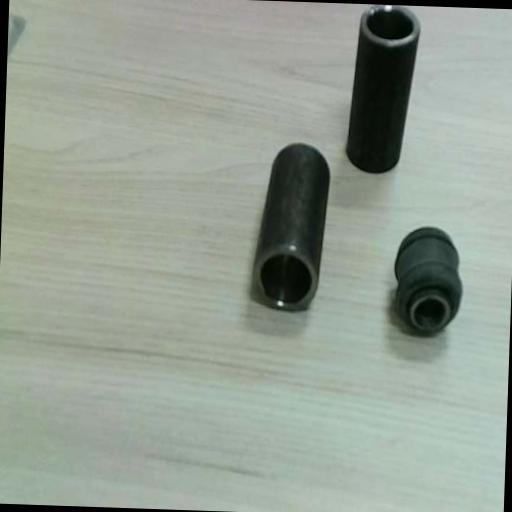peca: (253, 143, 328, 309), (346, 4, 419, 170), (394, 227, 461, 333)
